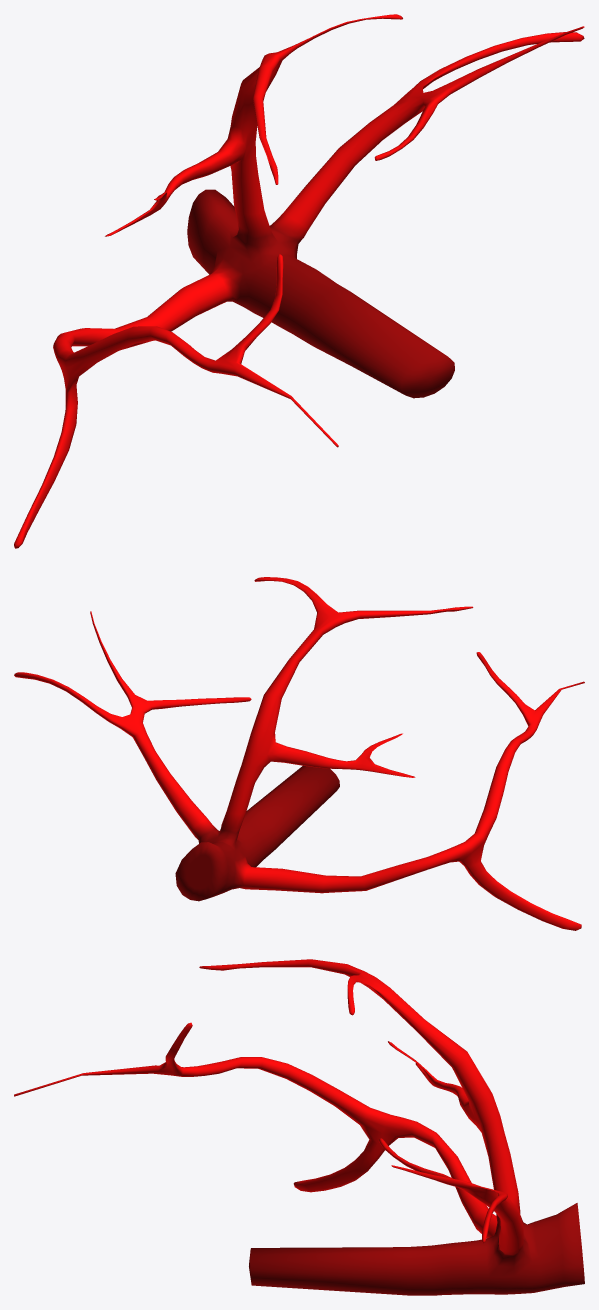
File: __IVC_Heart_inner.fbx
3 views of the same model, one above another, from view 1: azimuth 30°, elevation 25°; view 2: azimuth 150°, elevation 25°; view 3: azimuth 270°, elevation 25° (orthographic). The views are drawn at different scales.
Parts seen in each view (by area): view 1: IVC_Heart_inner; view 2: IVC_Heart_inner; view 3: IVC_Heart_inner.
Boxes of the visible parts, x1,y1,x2,y2 form: IVC_Heart_inner: [14, 14, 584, 548]; IVC_Heart_inner: [14, 577, 584, 930]; IVC_Heart_inner: [14, 959, 584, 1295].
Bounding box in the file's own units: 182 × 107 × 153.
